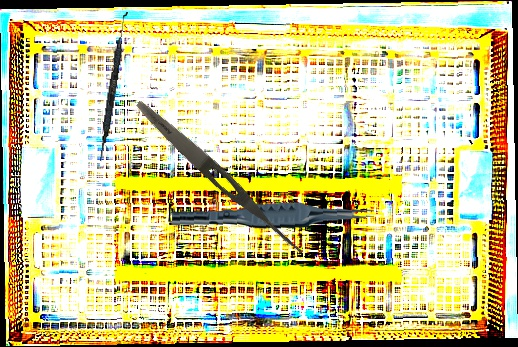Dressing Forceps: (130, 95, 311, 261)
Spatula Surgical: (97, 10, 129, 163)
Tissue Forceps: (171, 195, 375, 239)
